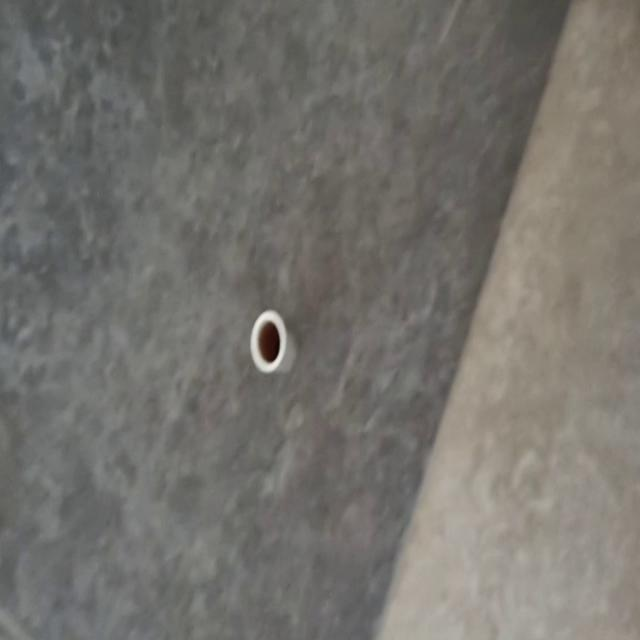Cube: (249, 308, 287, 374)
